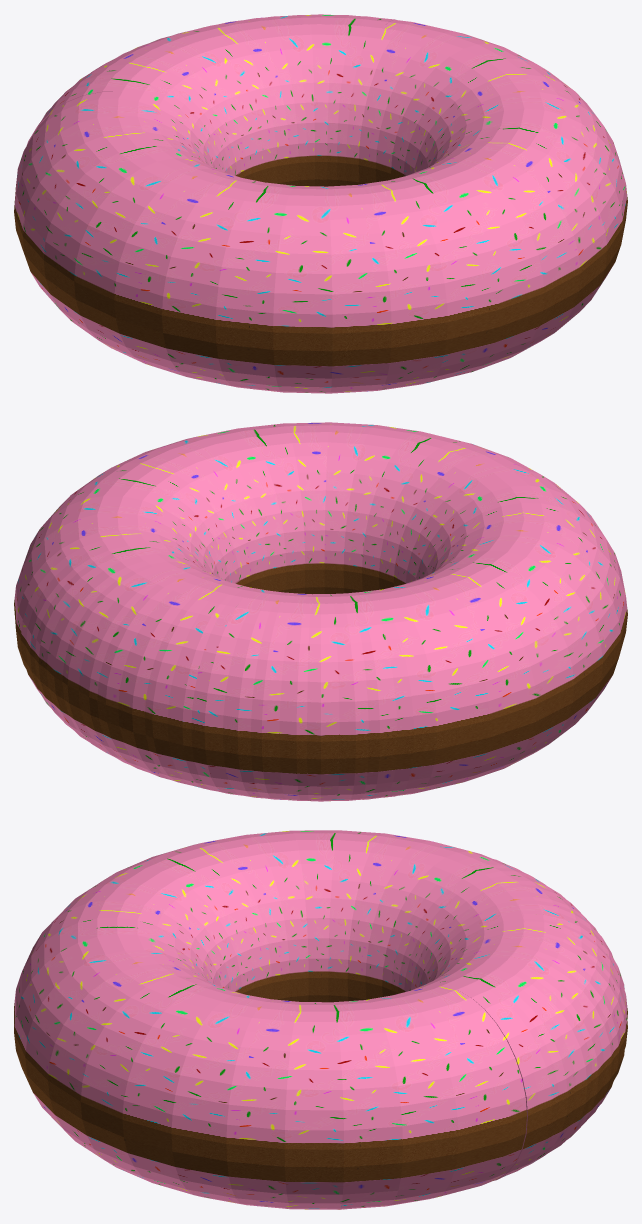
File: dona1.obj
The picture shows the model from 3 angles, top to bottom: view 1: azimuth 30°, elevation 25°; view 2: azimuth 150°, elevation 25°; view 3: azimuth 270°, elevation 25°; orthographic projection.
Visible parts, largest first — view 1: dona1:Mesh; view 2: dona1:Mesh; view 3: dona1:Mesh.
Boxes of the visible parts, x1,y1,x2,y2 form: dona1:Mesh: (14,14,627,393); dona1:Mesh: (14,422,627,801); dona1:Mesh: (14,830,627,1209).
Size of the model in its own units: 1.25 by 0.4245 by 1.25.
Materials: 1 (1 with a texture image).
